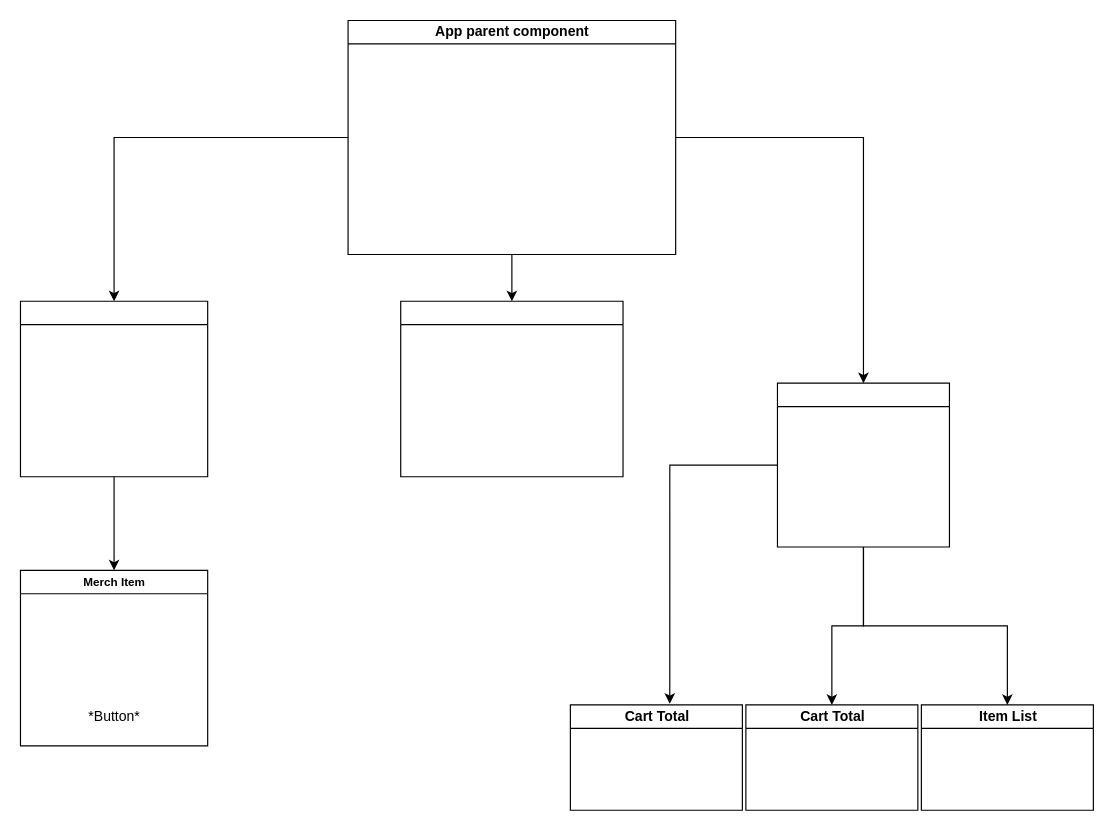
Image size: 1114x831. Some labels were removed from this diagram. The shapes that lost their labels are listed below. From the top down, each one's centre as x and y in pixels, then its label:
[113,388]: Merchandise Display Component
[511,388]: Header Component
[862,464]: Shopping Cart
